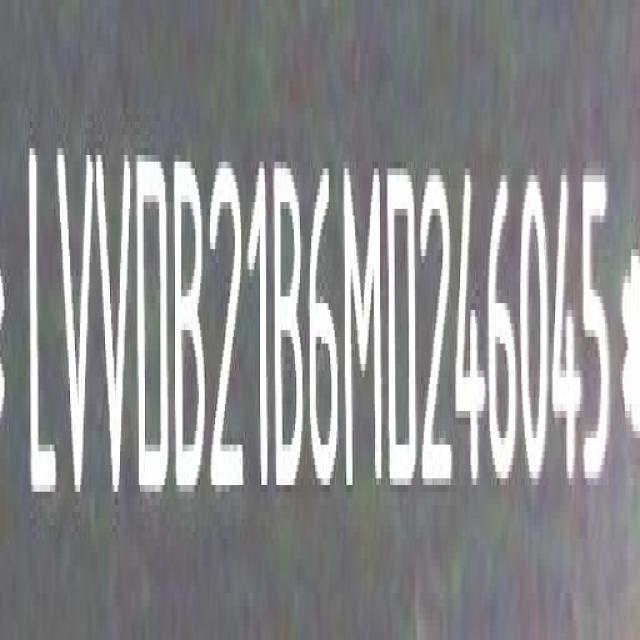0: (521, 173, 550, 493)
1: (248, 157, 272, 498)
2: (211, 158, 245, 504), (420, 170, 455, 496)
4: (452, 165, 485, 495), (550, 165, 580, 492)
5: (584, 167, 616, 491)
6: (308, 157, 342, 491), (488, 171, 522, 494)
B: (172, 153, 205, 507), (272, 154, 306, 491)
D: (134, 146, 169, 507), (388, 164, 420, 490)
L: (24, 130, 59, 514)
M: (344, 161, 384, 490)
V: (54, 138, 93, 513), (98, 143, 134, 512)
